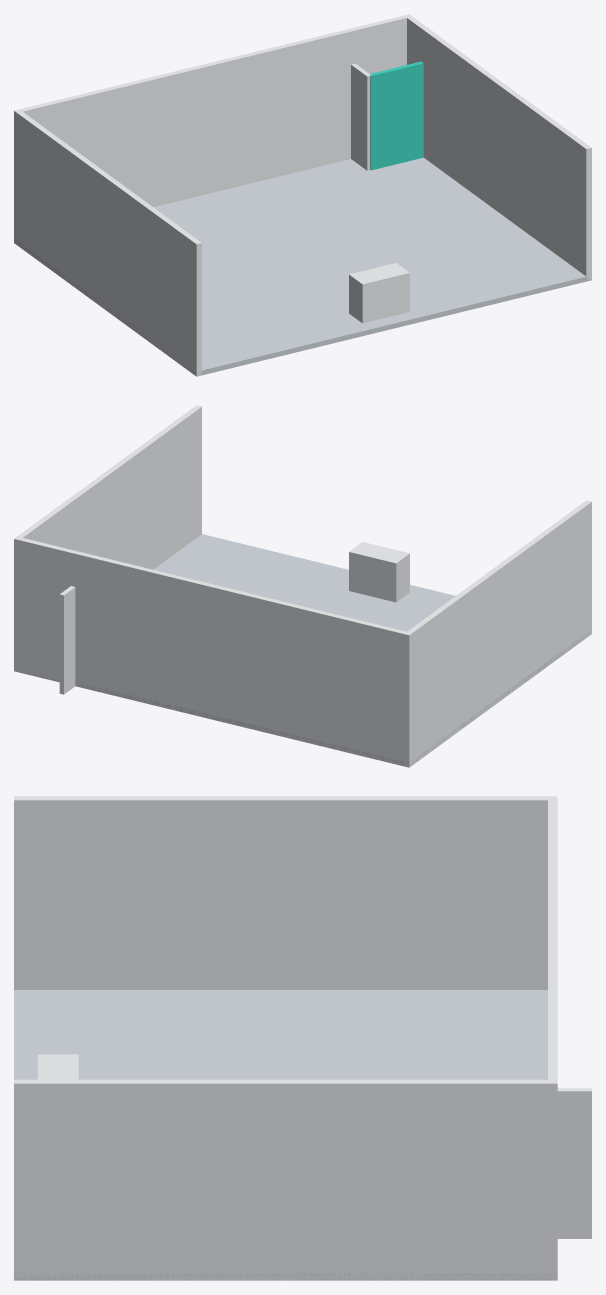
3 views of the same model, one above another, from view 1: azimuth 30°, elevation 25°; view 2: azimuth 150°, elevation 25°; view 3: azimuth 270°, elevation 25° (orthographic). The views are drawn at different scales.
Visible parts, largest first — view 1: Exhibition Booth Concept; view 2: Exhibition Booth Concept; view 3: Exhibition Booth Concept.
Boxes of the visible parts, bbox=[...] form: Exhibition Booth Concept: bbox=[14, 14, 591, 376]; Exhibition Booth Concept: bbox=[14, 405, 591, 767]; Exhibition Booth Concept: bbox=[14, 796, 591, 1280].
Bounding box in the file's own units: 10 × 3.2 × 8.51.
